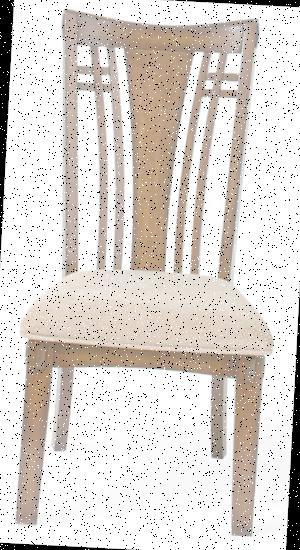Silla: (10, 13, 287, 529)
